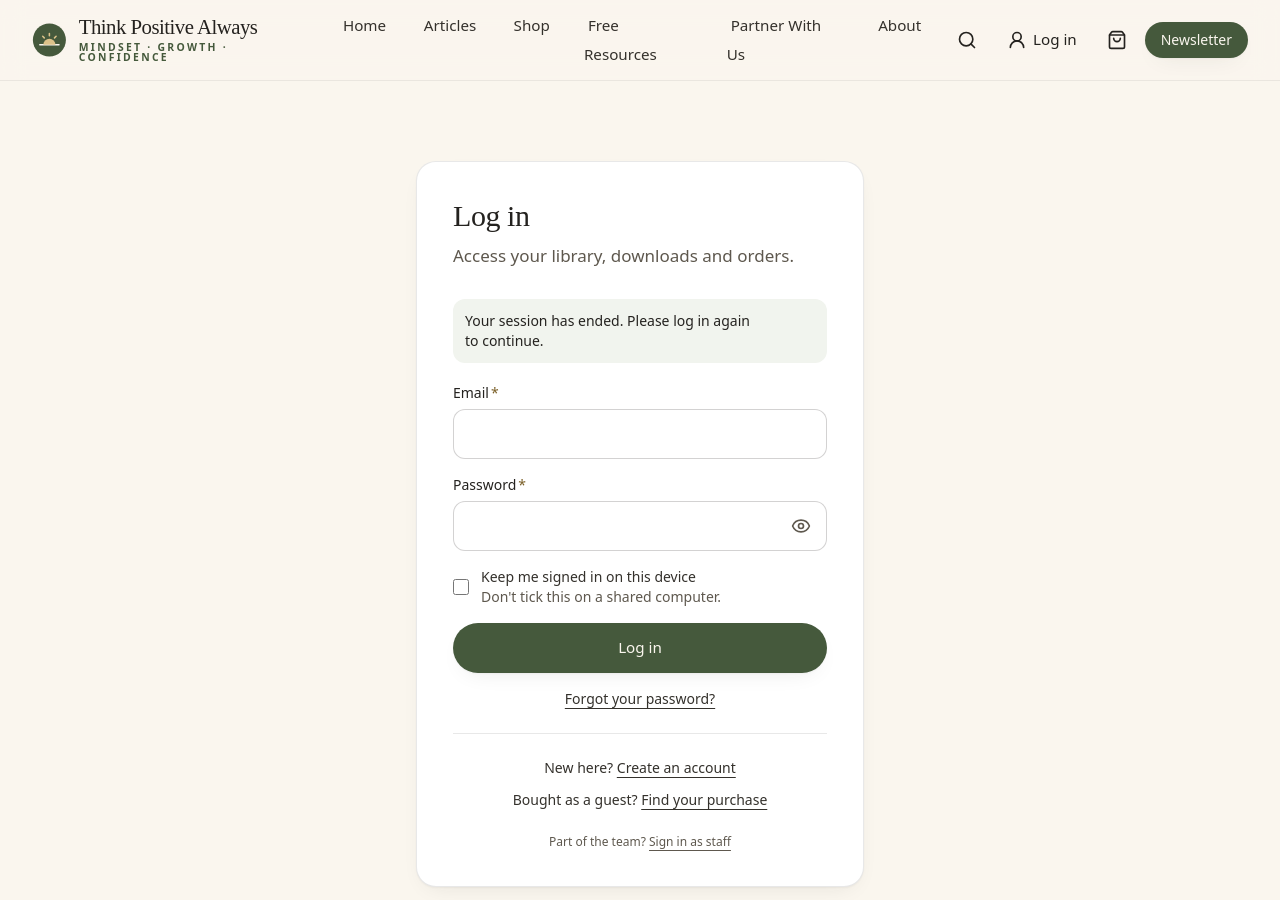
Test: log in › explains rate limits and ended sessions
This screenshot has width=1280, height=900.
Expected: the text "Your session has ended. Please log in again to continue." is shown, [453, 299, 827, 363]
Step 1. Type "ada@example.com" into the field labelled "Email*" → {"x": 640, "y": 434}, box [453, 409, 827, 459]
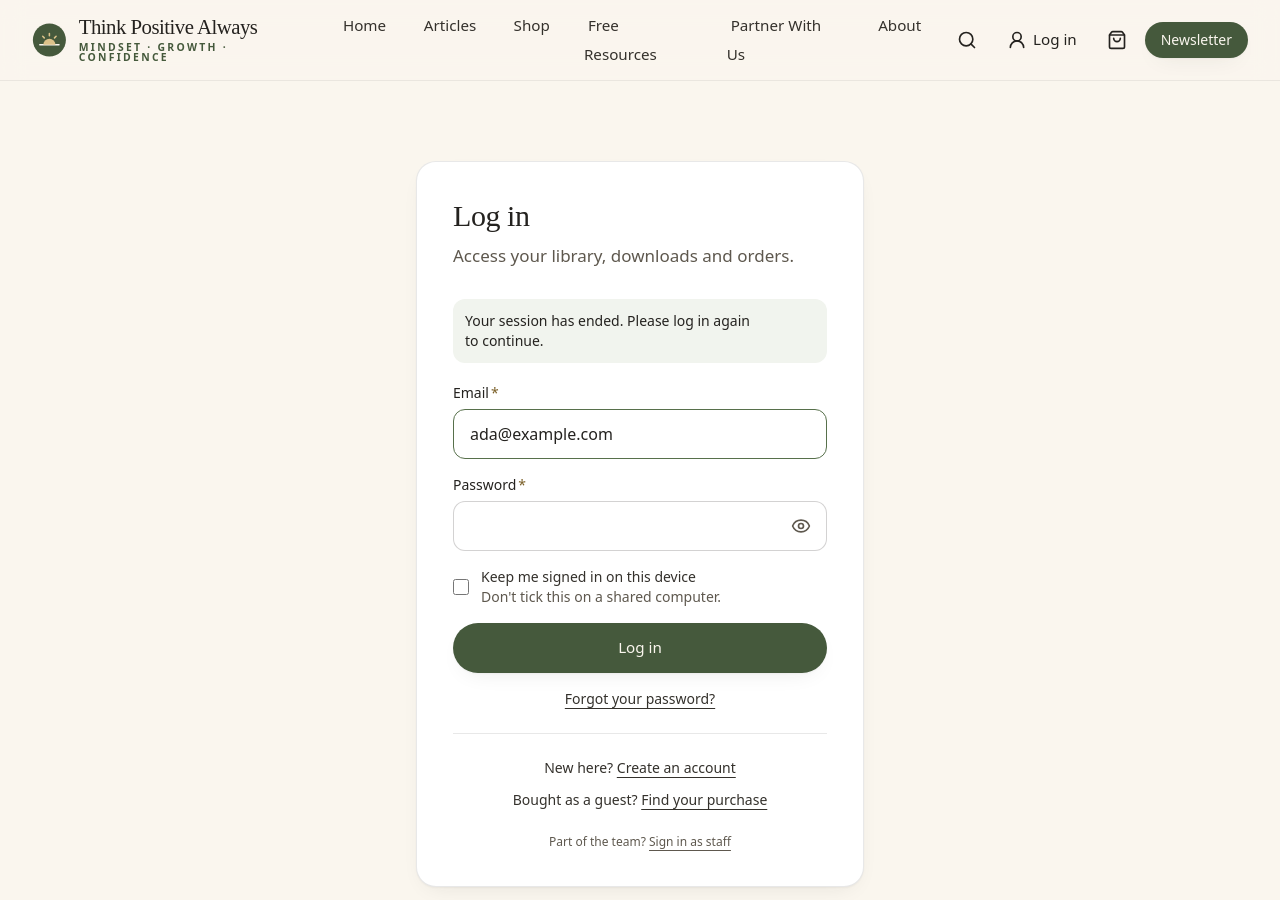
Step 2. Type "whatever-password" into the password field labelled "Password*" → {"x": 640, "y": 526}, box [453, 501, 827, 551]
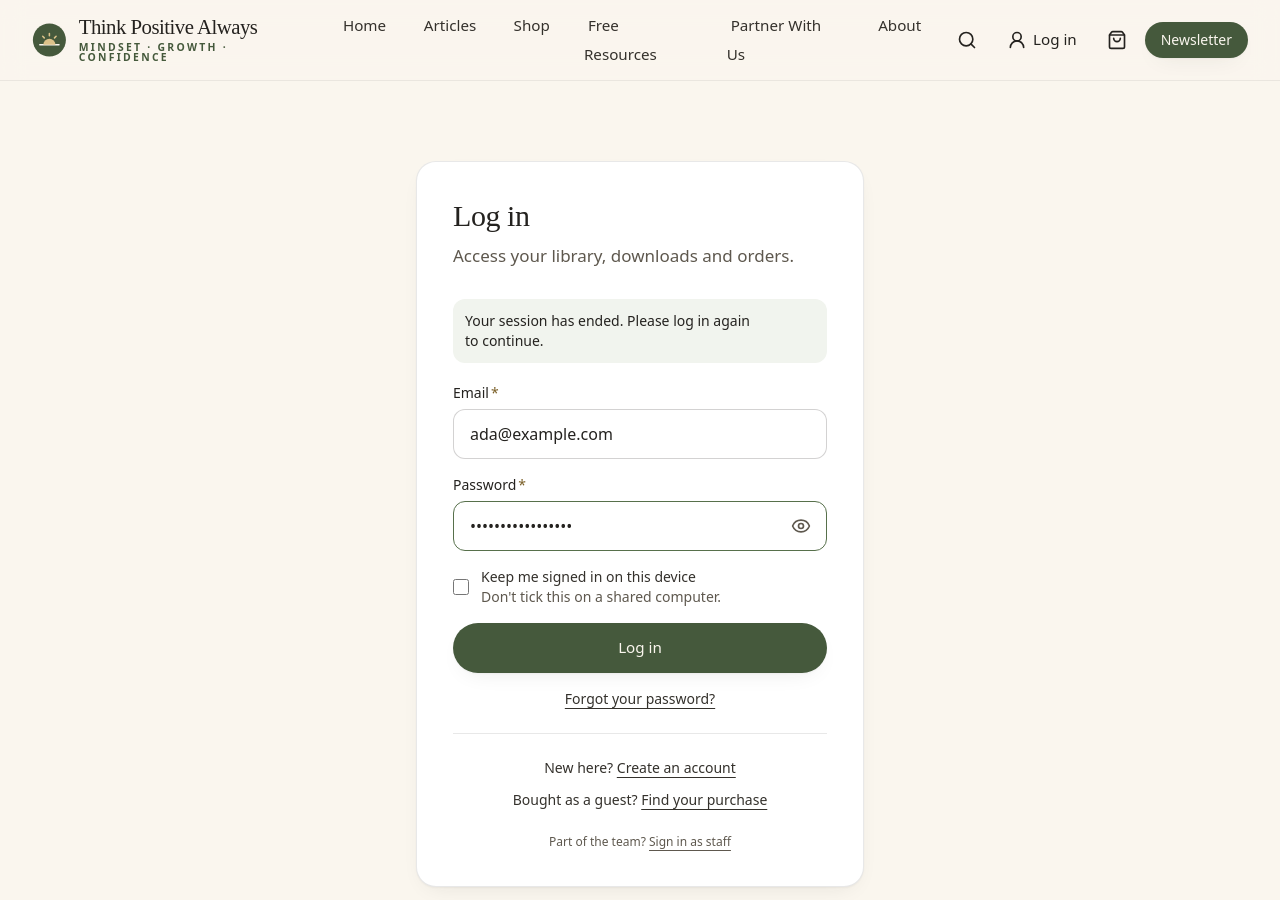
Step 3. Click the button "Log in" → {"x": 640, "y": 648}, box [453, 623, 827, 673]
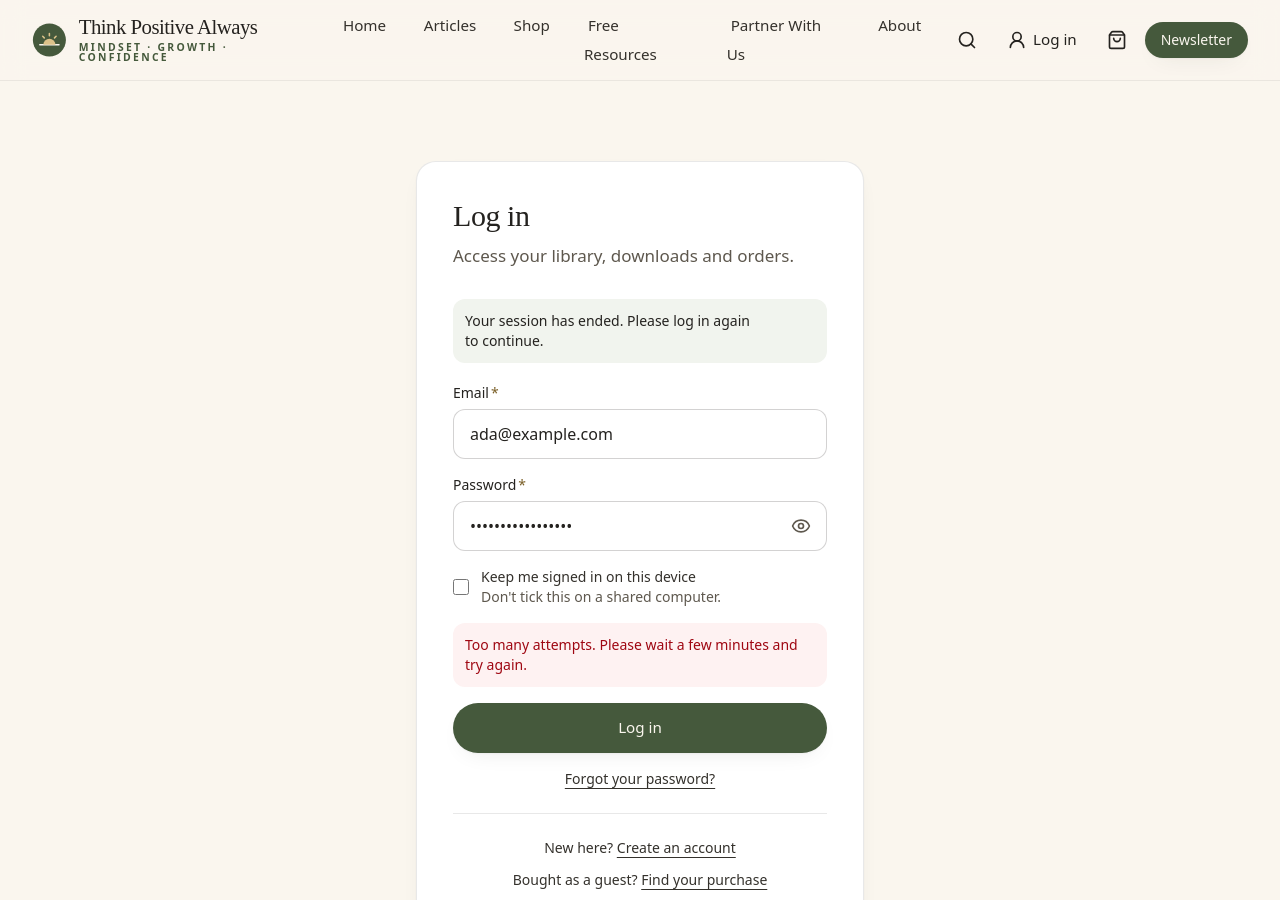
Now the message "Too many attempts. Please wait a few minutes and try again." is shown, box [453, 623, 827, 687]
